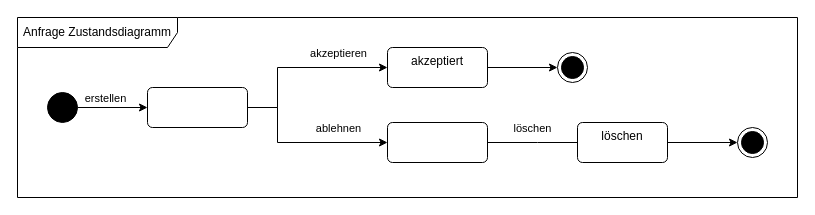
Some shapes in this 815 by 215 pixel diagram are drawn without their labels. Here are the shapes that lost their labels. From the top down, the centre of each, then its label:
At point 197,107: "erstellt".
At point 437,142: "abgelehnt".
